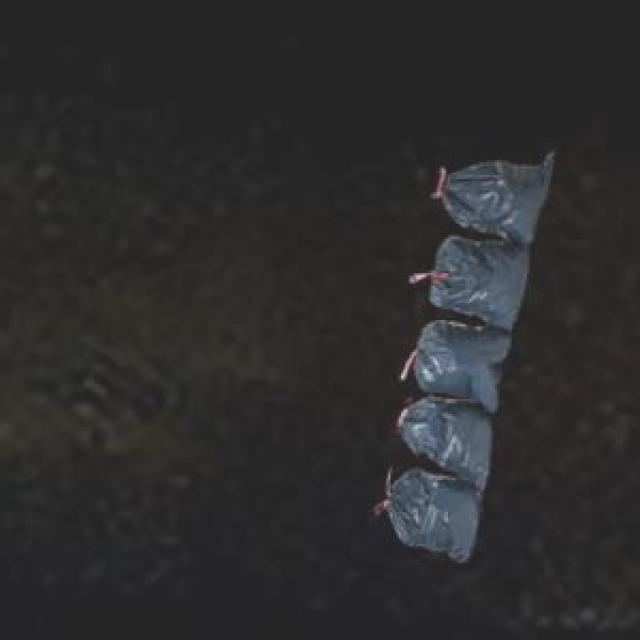Trashbag: (428, 230, 536, 333), (444, 148, 560, 238), (398, 398, 497, 488), (391, 472, 482, 564), (415, 320, 510, 408)
